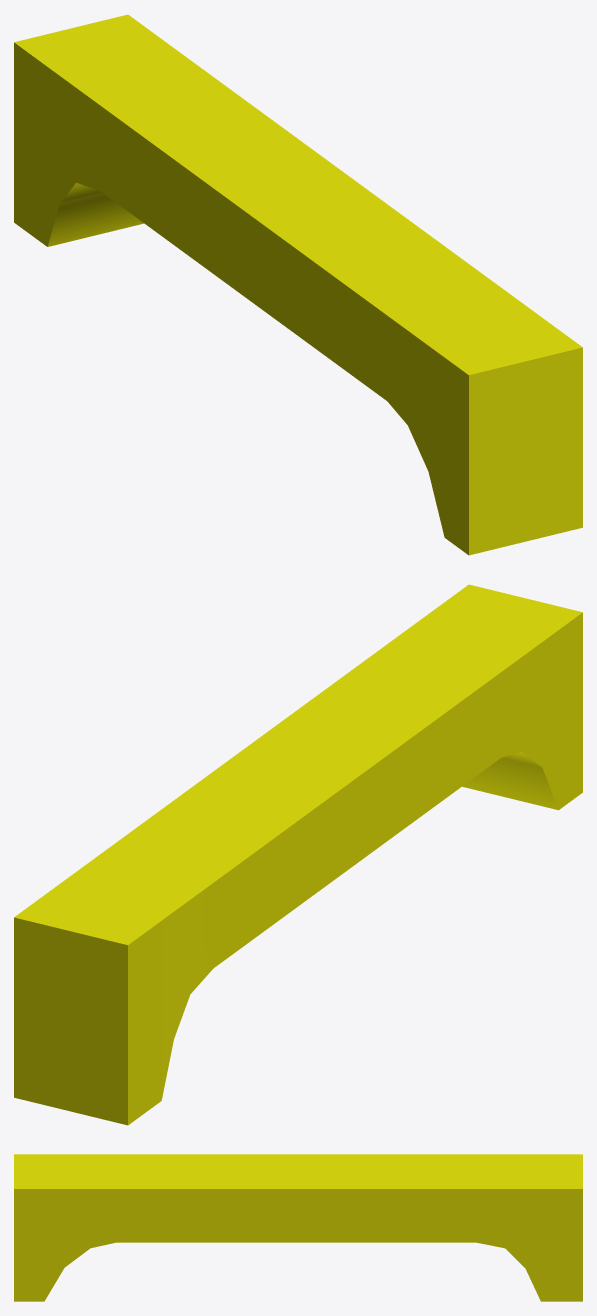
Rendered from Background_Wall_04.fbx.
3 renders of one model, top to bottom at view 1: azimuth 30°, elevation 25°; view 2: azimuth 150°, elevation 25°; view 3: azimuth 270°, elevation 25°, orthographic. The views are drawn at different scales.
Visible parts, largest first — view 1: Background_Wall_04; view 2: Background_Wall_04; view 3: Background_Wall_04.
Boxes of the visible parts, left/top/right/bottom form: Background_Wall_04: left=14, top=14, right=582, bottom=555; Background_Wall_04: left=14, top=584, right=582, bottom=1125; Background_Wall_04: left=14, top=1154, right=582, bottom=1301.
Size of the model in its own units: 279 by 421 by 1926.
